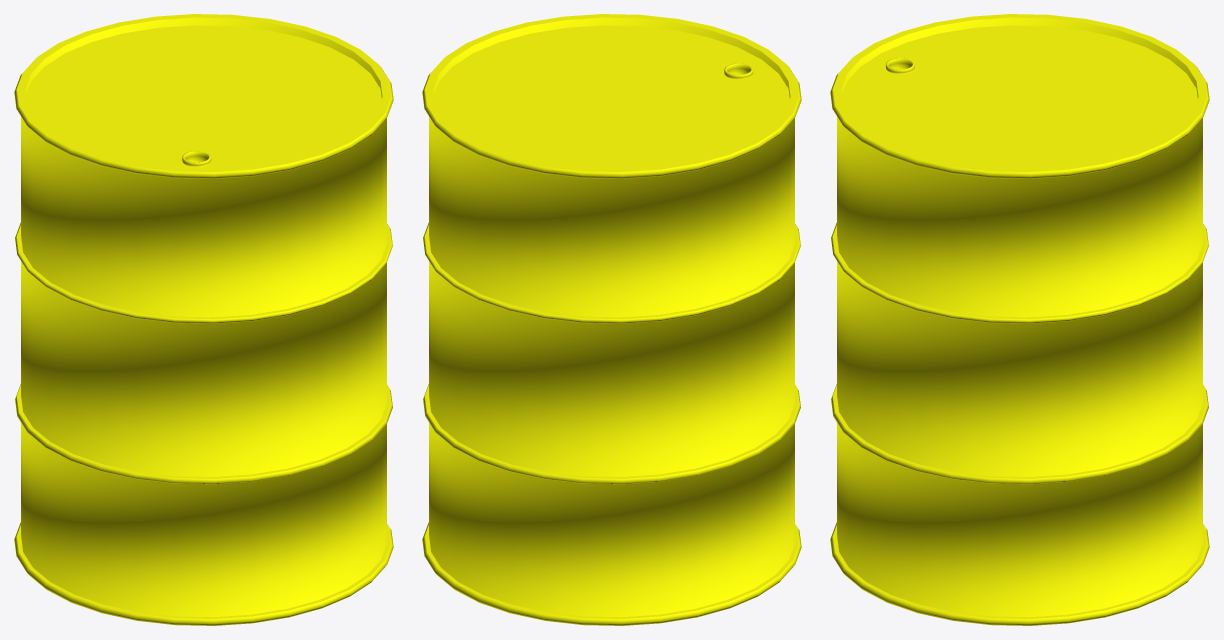
Rendered from barrel.dae.
3 views of the same model, side by side, from view 1: azimuth 30°, elevation 25°; view 2: azimuth 150°, elevation 25°; view 3: azimuth 270°, elevation 25° (orthographic).
Visible parts, largest first — view 1: barrel; view 2: barrel; view 3: barrel.
Part boxes in pixels (x1,y1,x2,y2): barrel: (14,14,393,625); barrel: (422,14,801,625); barrel: (830,14,1209,625).
Size of the model in its own units: 1.2 by 1.2 by 1.58.
Materials: 1 (1 with a texture image).
